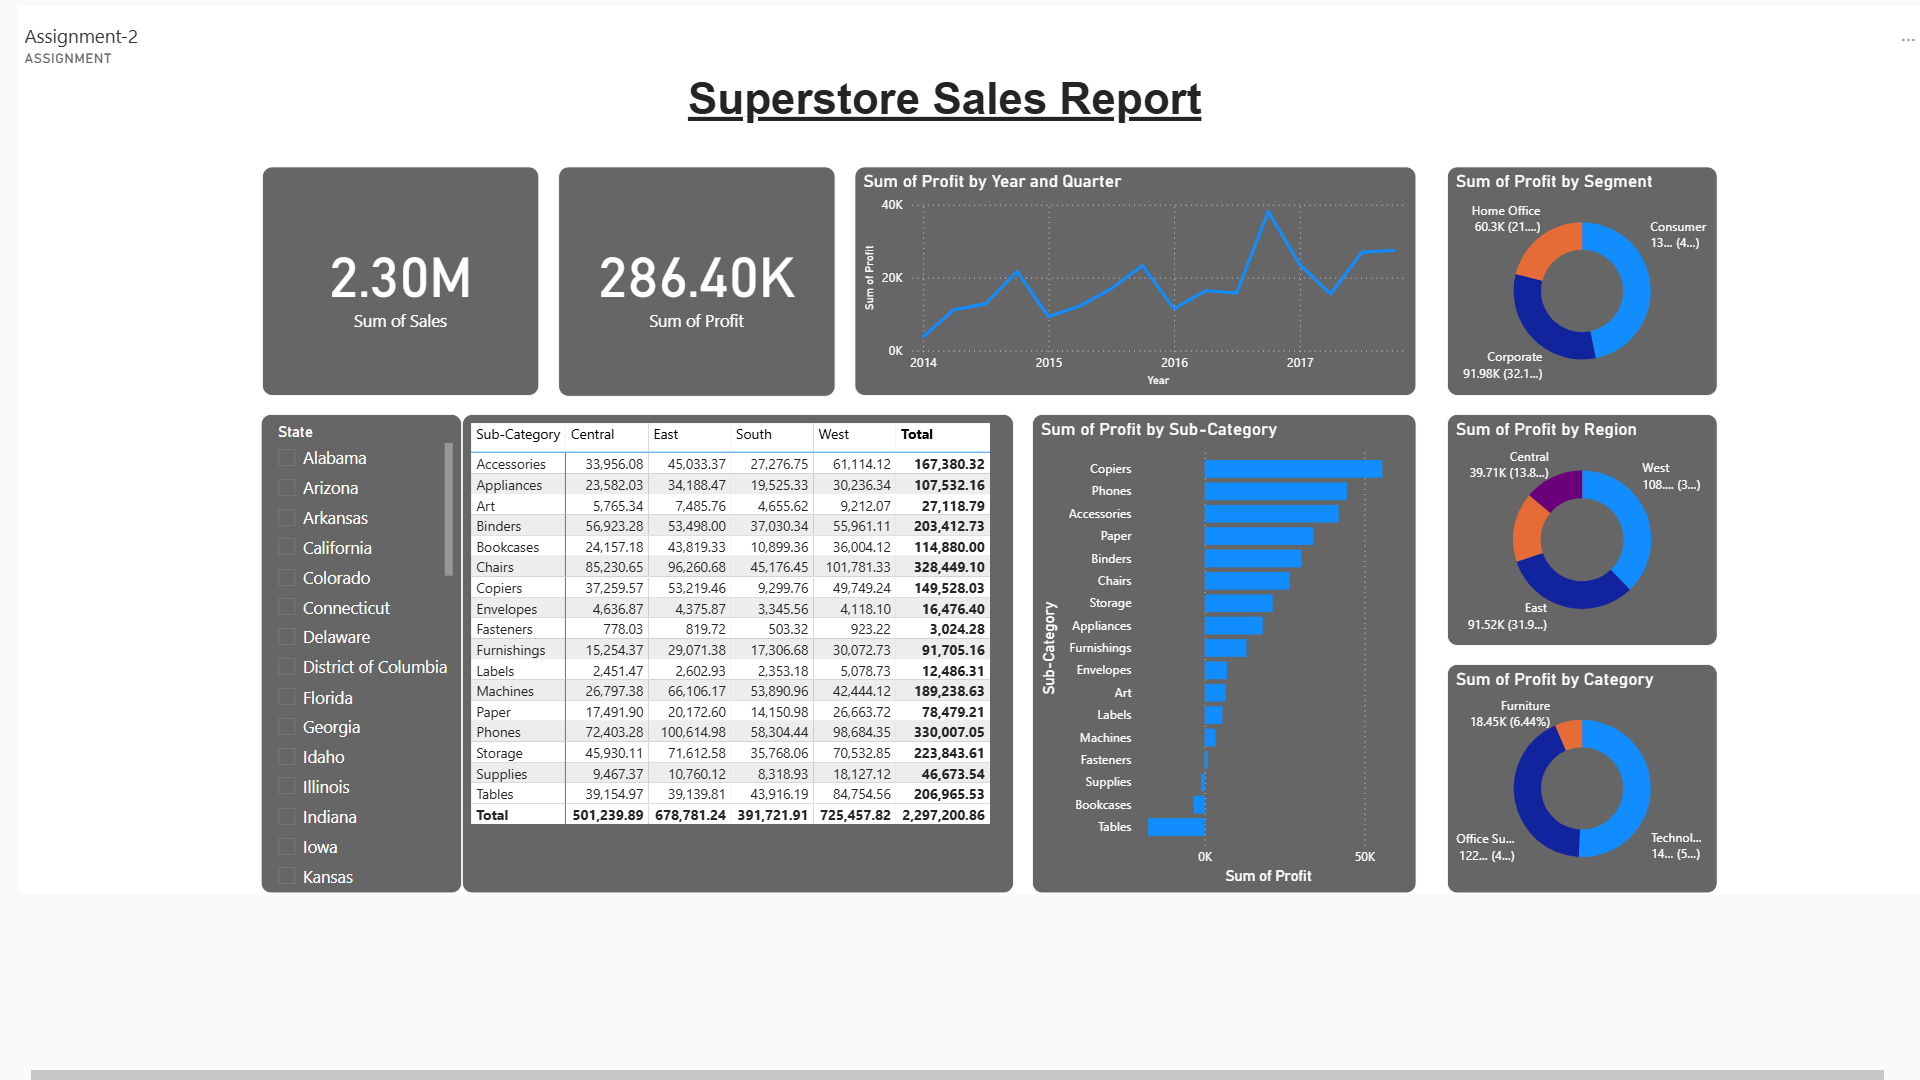

The page's visual inventory and layout, read from the dashboard file:
{"tool":"powerbi","page":{"name":"Assignment","canvas":[1500,800],"ordinal":2},"visuals":[{"type":"textbox","box":[150,0,1130,80],"z":0},{"type":"donutChart","fields":{"Y":["Sum(Orders.Profit)"],"Category":["Orders.Segment"]},"box":[1202.5,95,262.5,222.5],"z":1000},{"type":"donutChart","fields":{"Y":["Sum(Orders.Profit)"],"Category":["Orders.Region"]},"box":[1202.5,335,262.5,225],"z":2000},{"type":"donutChart","fields":{"Y":["Sum(Orders.Profit)"],"Category":["Orders.Category"]},"box":[1203.3,578.3,261.7,221.7],"z":3000},{"type":"lineChart","fields":{"Y":["Sum(Orders.Profit)"],"Category":["Orders.Order Date.Variation.Date Hierarchy.Year","Orders.Order Date.Variation.Date Hierarchy.Quarter"]},"box":[627.5,95,545,222.5],"z":4000},{"type":"card","fields":{"Values":["Sum(Orders.Profit)"]},"box":[340,94.3,268.6,222.9],"z":5000},{"type":"card","fields":{"Values":["Sum(Orders.Sales)"]},"box":[53.3,94.4,268.9,222.2],"z":6000},{"type":"slicer","fields":{"Values":["Orders.State"]},"box":[52.5,335,195,465],"z":7000},{"type":"pivotTable","fields":{"Rows":["Orders.Sub-Category"],"Columns":["Orders.Region"],"Values":["Sum(Orders.Sales)"]},"box":[247.5,335,535,465],"z":8000},{"type":"clusteredBarChart","fields":{"Category":["Orders.Sub-Category"],"Y":["Sum(Orders.Profit)"]},"box":[800,335,372.5,465],"z":9000},{"type":"actionButton","box":[0,0,100,40],"z":10000}]}

Visuals, with their boxes on the page's 1500x800 design canvas (x1, y1, x2, y2). These are canvas units, not pixel positions in the 1920x1080 screenshot, which may show the page scaled, cropped or inside an application window:
textbox: bbox(150, 0, 1280, 80)
donutChart - Sum(Orders.Profit) x Orders.Segment: bbox(1202, 95, 1465, 318)
donutChart - Sum(Orders.Profit) x Orders.Region: bbox(1202, 335, 1465, 560)
donutChart - Sum(Orders.Profit) x Orders.Category: bbox(1203, 578, 1465, 800)
lineChart - Sum(Orders.Profit) x Orders.Order Date.Variation.Date Hierarchy.Year: bbox(628, 95, 1172, 318)
card - Sum(Orders.Profit): bbox(340, 94, 609, 317)
card - Sum(Orders.Sales): bbox(53, 94, 322, 317)
slicer - Orders.State: bbox(52, 335, 248, 800)
pivotTable - Orders.Sub-Category x Orders.Region: bbox(248, 335, 782, 800)
clusteredBarChart - Orders.Sub-Category x Sum(Orders.Profit): bbox(800, 335, 1172, 800)
actionButton: bbox(0, 0, 100, 40)
